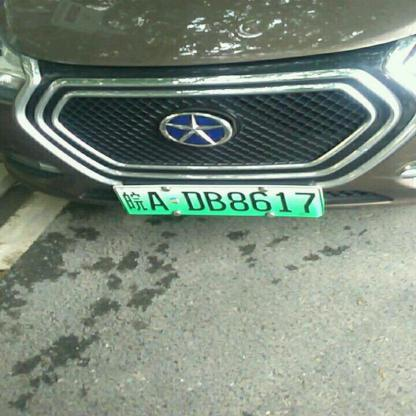lp: (112, 185, 324, 215)
